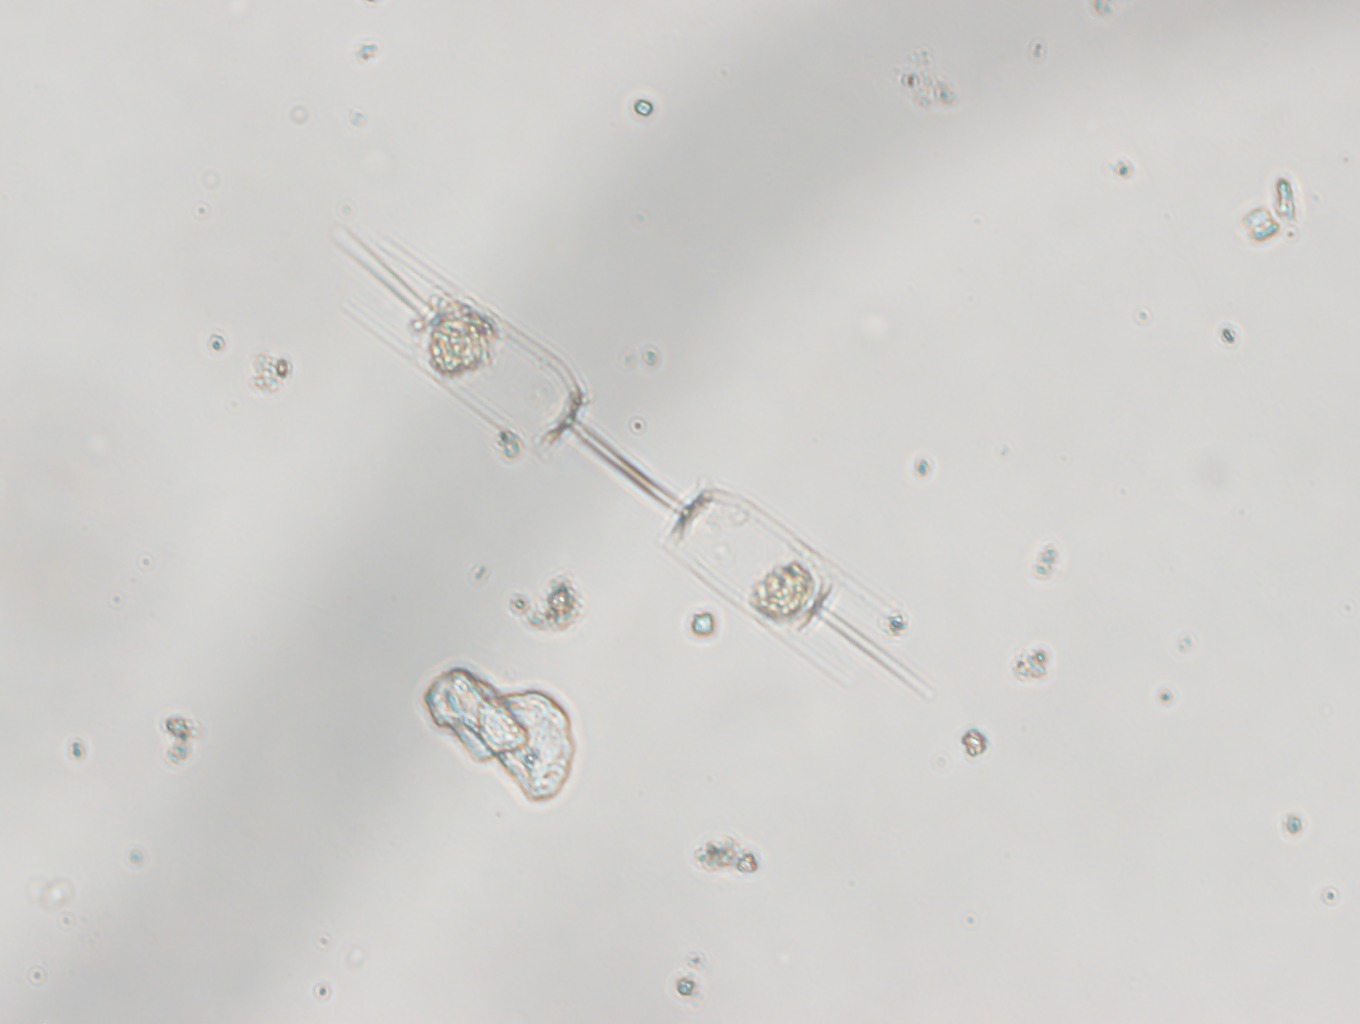ditylum: (327, 214, 939, 713)
